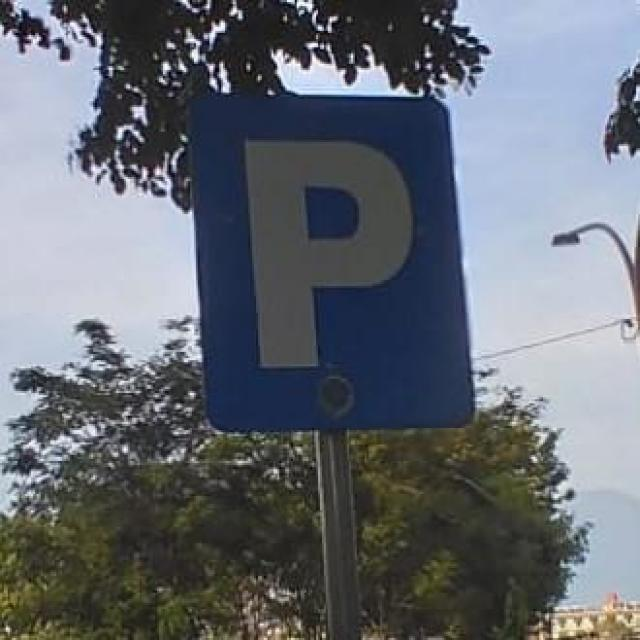traffic sign: (177, 97, 476, 428)
